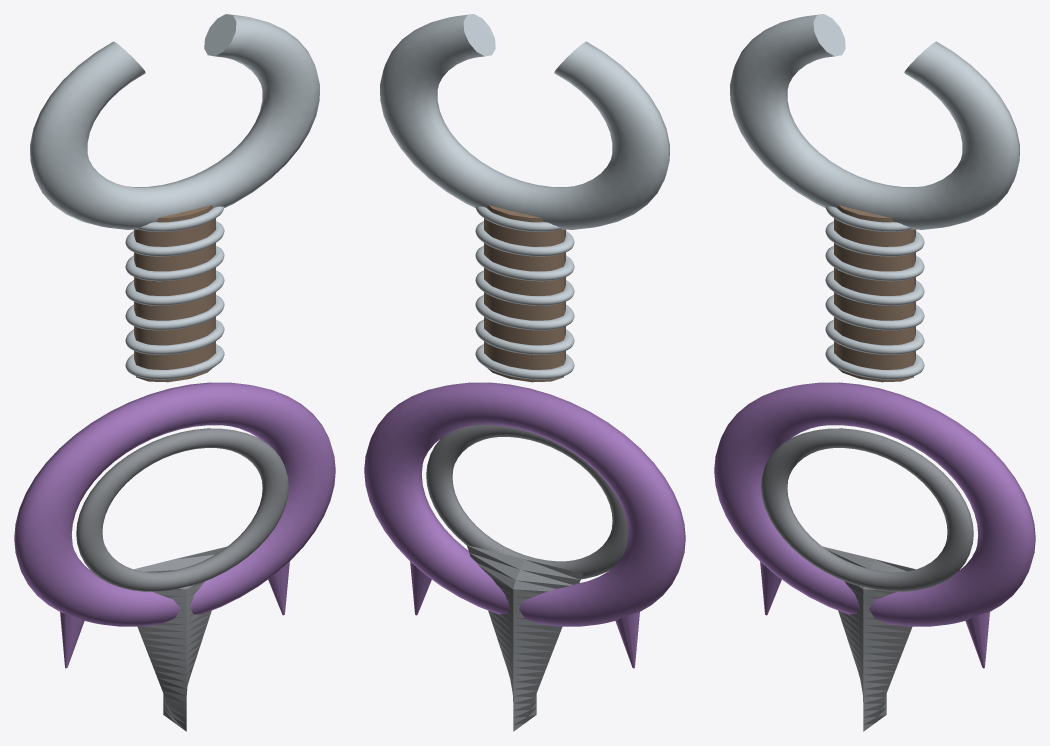
File: void_dagger.glb
3 renders of one model, left to right at view 1: azimuth 30°, elevation 25°; view 2: azimuth 150°, elevation 25°; view 3: azimuth 330°, elevation 25°, orthographic.
Size of the model in its own units: 12 by 25 by 2.34.
